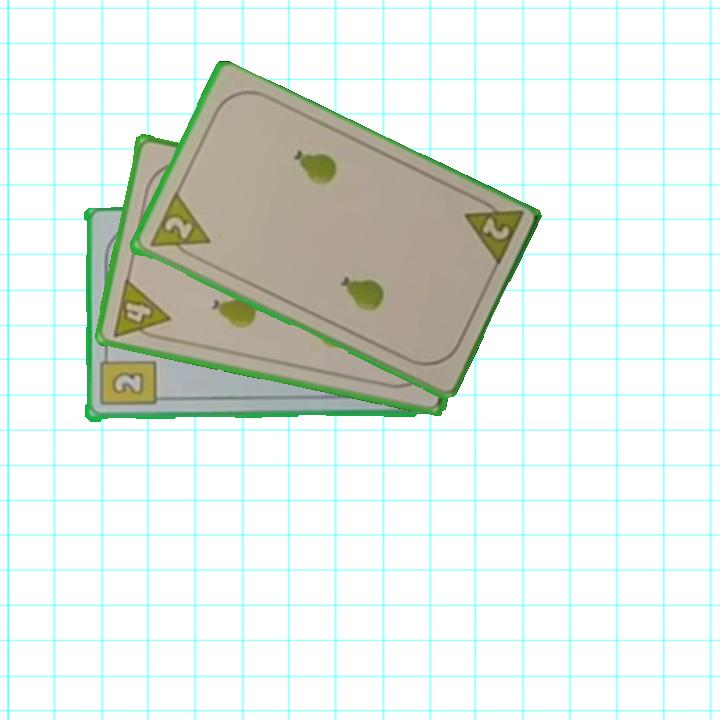2b: (96, 348, 157, 409)
2p: (459, 192, 525, 272), (145, 191, 213, 265)
4p: (108, 275, 173, 344)
